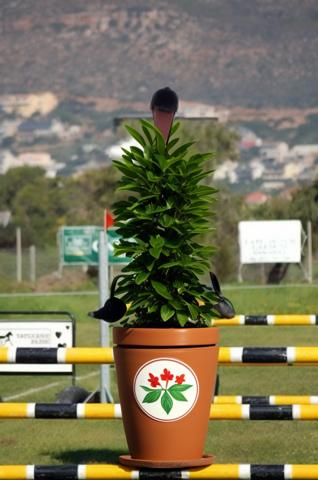person: (88, 87, 235, 322)
pottedplant: (113, 117, 218, 471)
